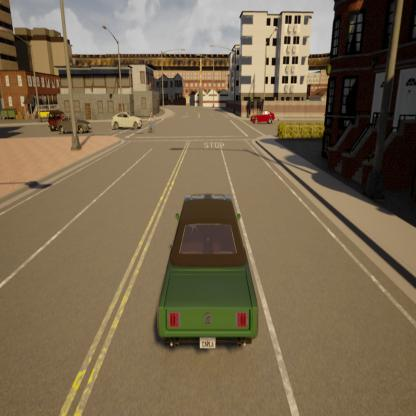Cars: (148, 186, 267, 373), (108, 105, 146, 127), (58, 114, 96, 136), (45, 106, 70, 135), (250, 110, 282, 127), (32, 105, 57, 117)
